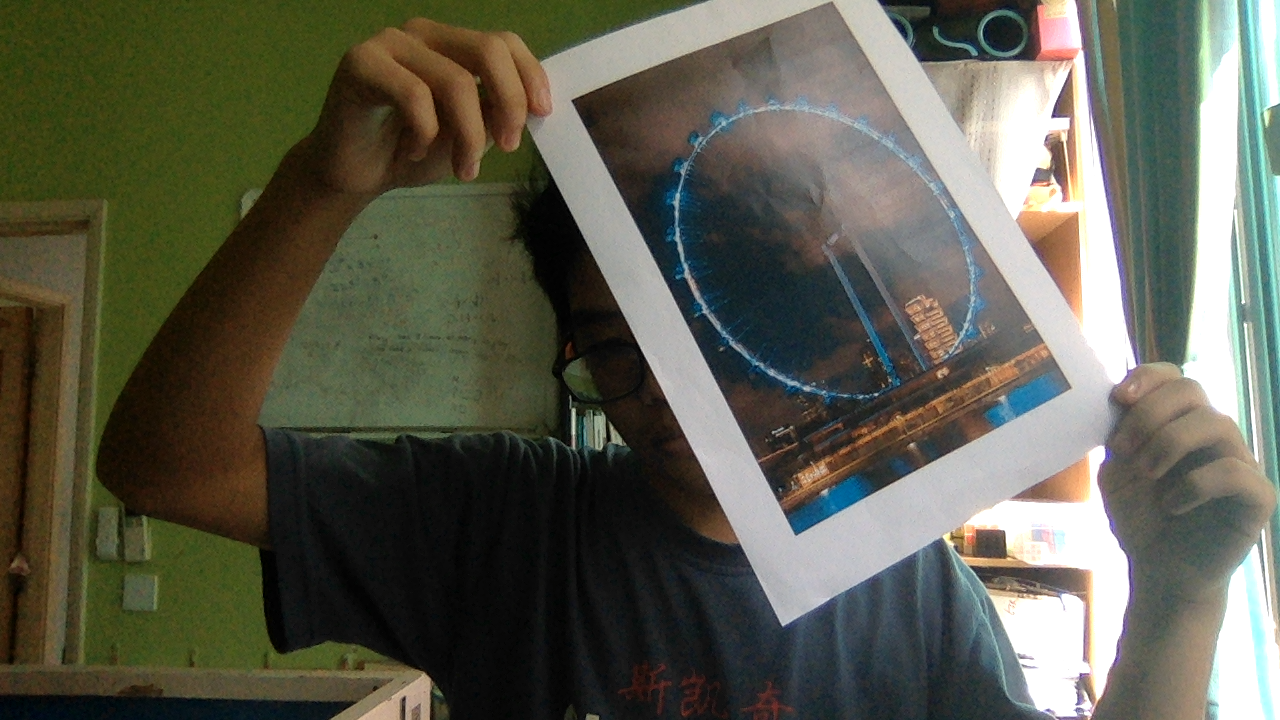Flyer: (609, 59, 1010, 494)
